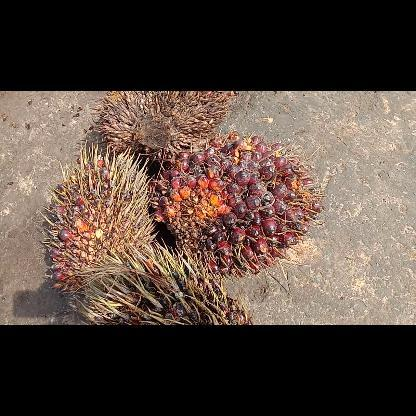Kurang masak: (57, 238, 252, 324)
TBS abnormal: (42, 140, 160, 298), (90, 90, 235, 156)
Terlalu masak: (148, 131, 324, 275)
